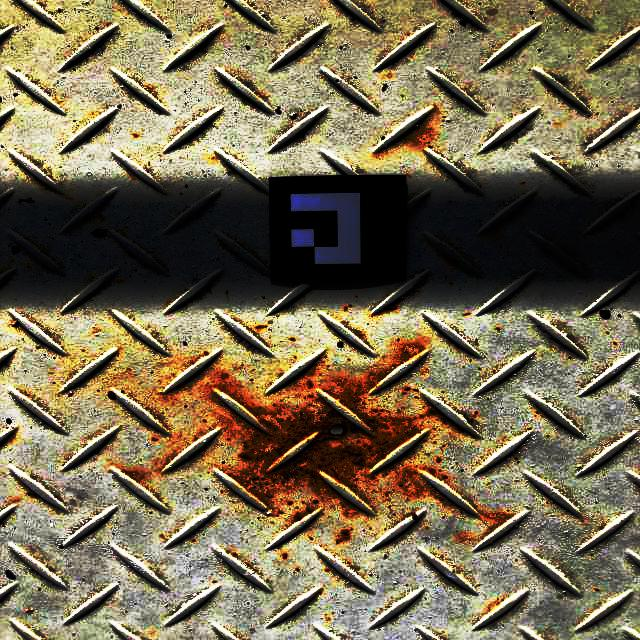Corrosion: (220, 343, 452, 518), (400, 108, 437, 148), (426, 400, 466, 434), (480, 509, 517, 533), (117, 470, 143, 483), (335, 527, 351, 544)
